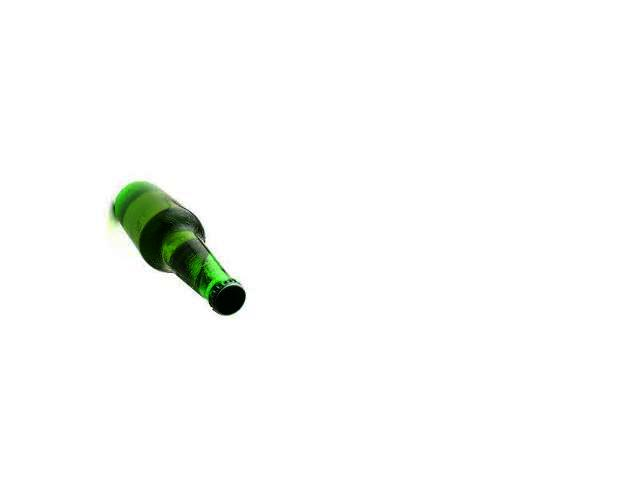beer: (113, 181, 244, 315)
